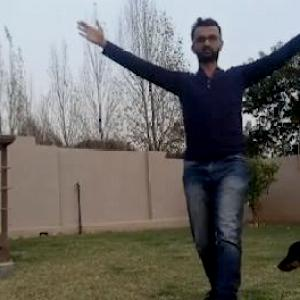takeoff: (66, 0, 300, 299)
